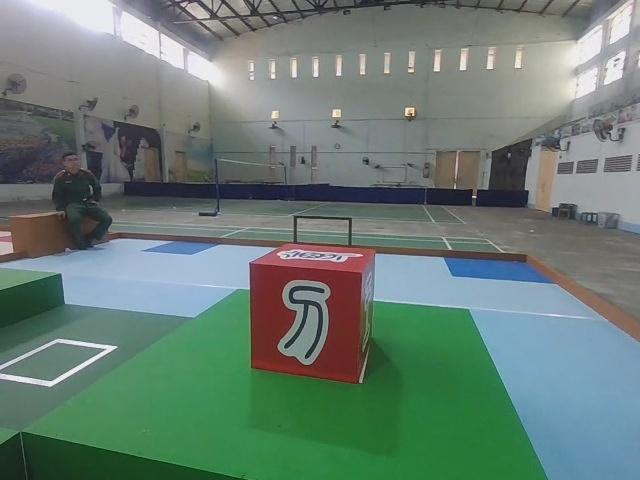R2 Fake: (243, 238, 378, 387)
